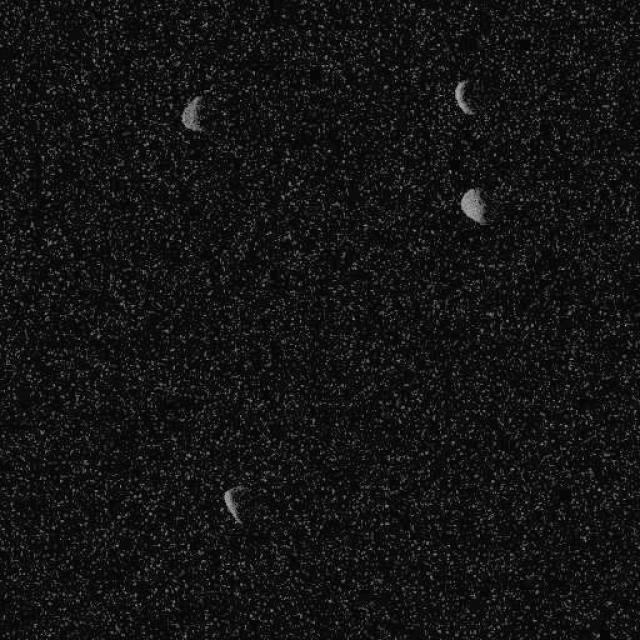D2: (458, 186, 488, 224), (180, 92, 206, 134), (222, 484, 248, 525), (453, 77, 475, 116)
